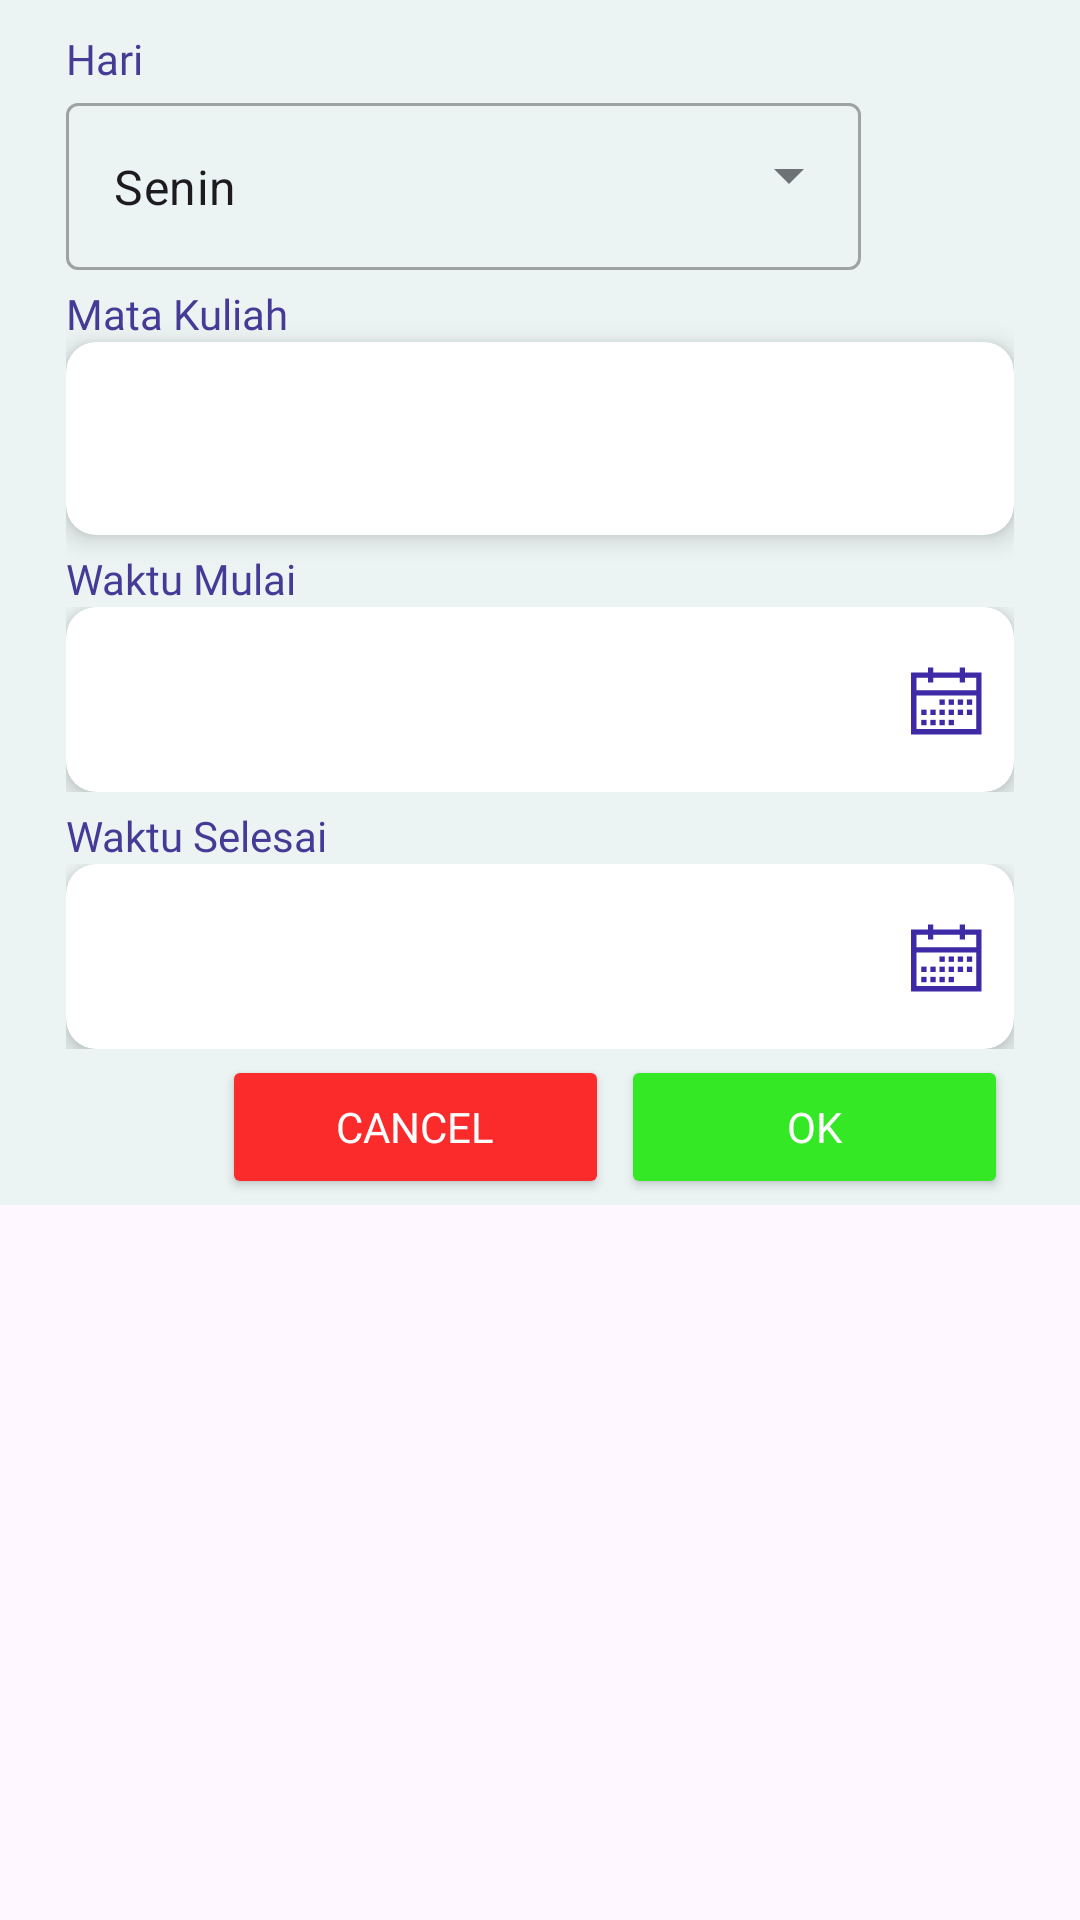

Locate icon controls on the screen. Image size 1080*1920, boxes as (x1, y1, x2, y2).
Calendar Icon: (911, 667, 982, 735), (911, 924, 982, 992)
